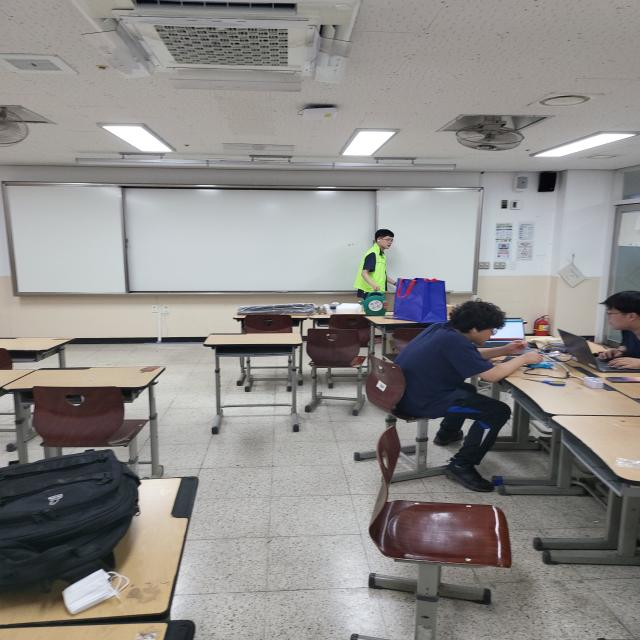weston_spy: (353, 236, 396, 299)
